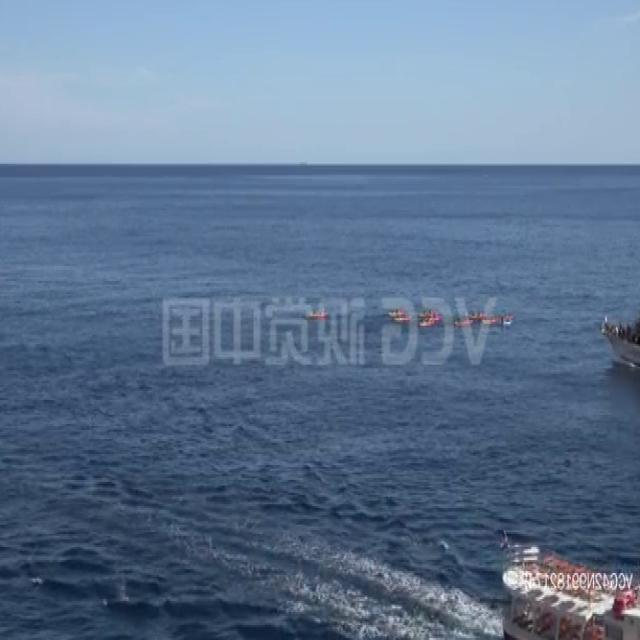houseboat: (502, 534, 640, 640), (603, 296, 640, 374), (482, 307, 512, 324), (418, 308, 442, 328), (388, 304, 411, 322), (306, 308, 328, 324), (467, 306, 488, 318), (454, 314, 472, 325)
